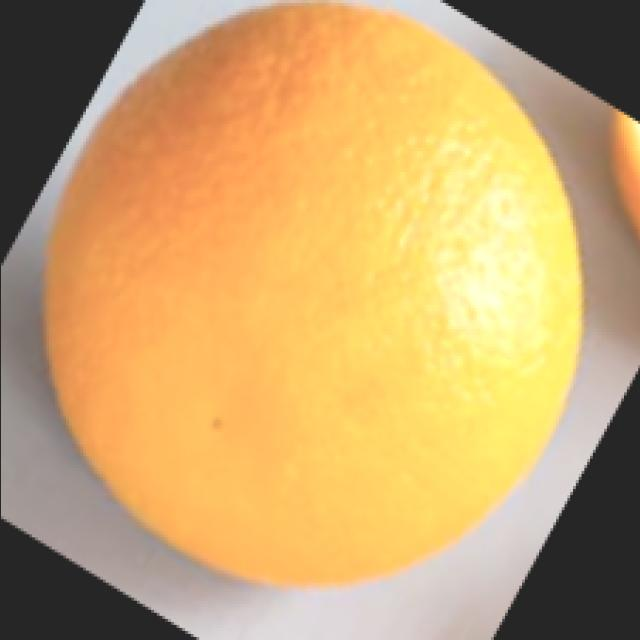orange: (37, 11, 594, 620)
